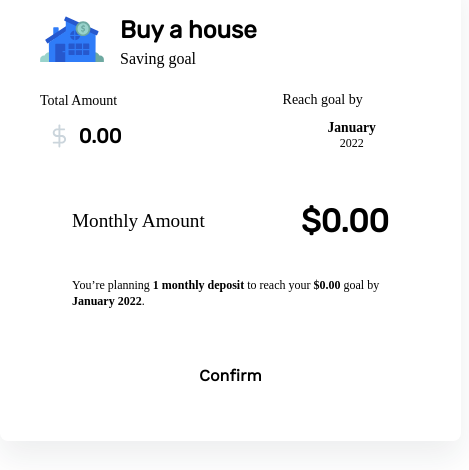
Test: Total Amount Component › Test money mask application › Receives 123456 and format correctly
In the field labelled "Total Amount": (171, 136) [79, 124, 262, 148], type "123456"
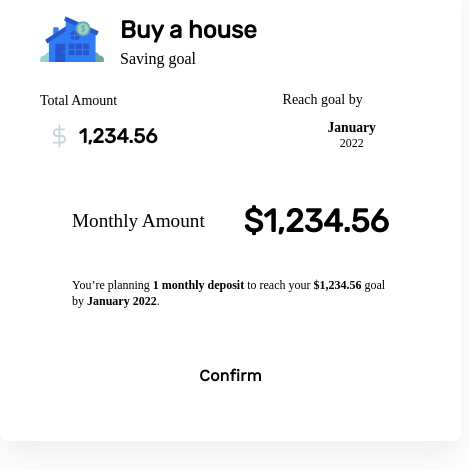
Result: the field labelled "Total Amount" holds "1,234.56" at [79, 124, 262, 148]
